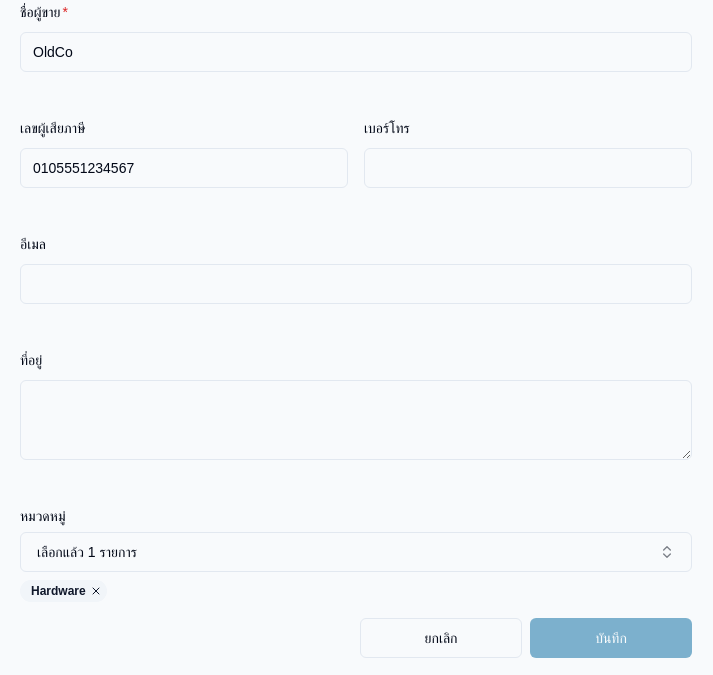
Test: VendorForm — edit › keeps บันทึก disabled on a pristine prefilled form and enables it after an edit (no-op-save guard)
Expected: the button "บันทึก" is disabled, [530,618,692,658]
Step 1. Type "X" into the field labelled "ชื่อผู้ขาย*" → (356, 52), box [20,32,692,72]
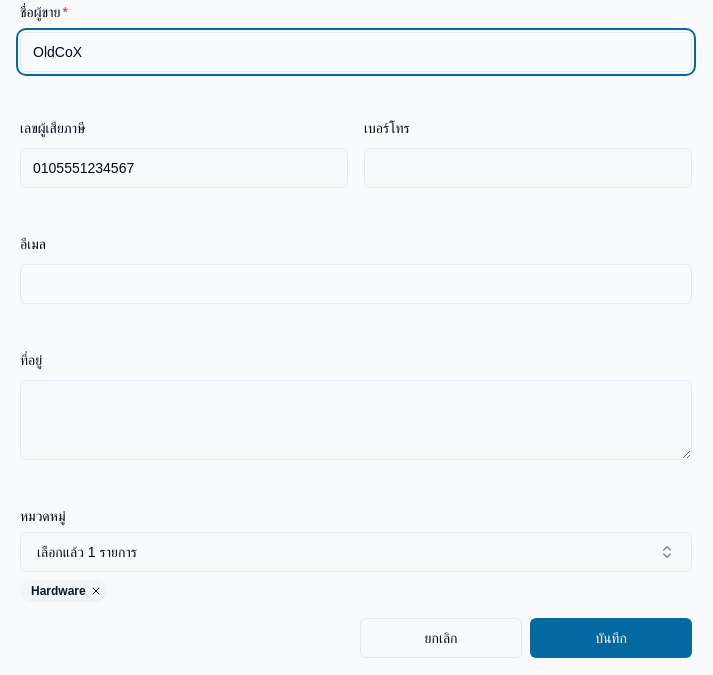
Expected: the button "บันทึก" is enabled, [530,618,692,658]
